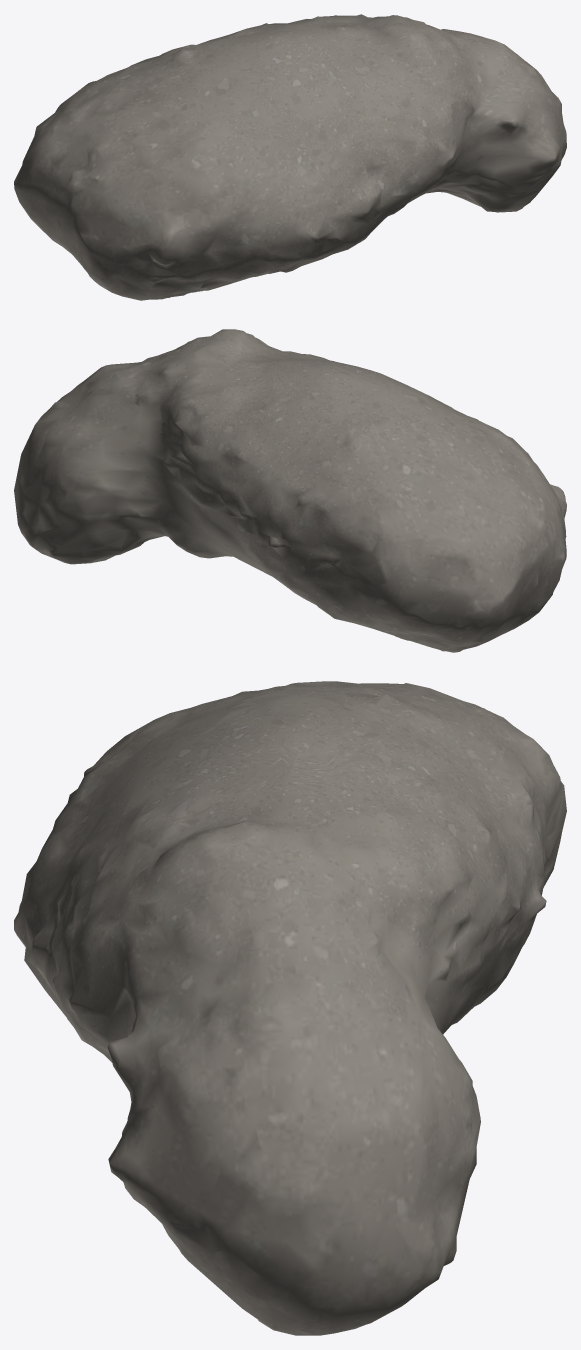
The model's file is itokawa-low.glb.
3 views of the same model, one above another, from view 1: azimuth 30°, elevation 25°; view 2: azimuth 150°, elevation 25°; view 3: azimuth 270°, elevation 25° (orthographic). The views are drawn at different scales.
Parts seen in each view (by area): view 1: itokawa; view 2: itokawa; view 3: itokawa.
Boxes of the visible parts, x1=… form: itokawa: x1=14, y1=14, x2=566, y2=300; itokawa: x1=14, y1=329, x2=566, y2=652; itokawa: x1=14, y1=681, x2=566, y2=1335.
Bounding box in the file's own units: 0.5614 × 0.2433 × 0.3051.
Materials: 1 (1 with a texture image).
